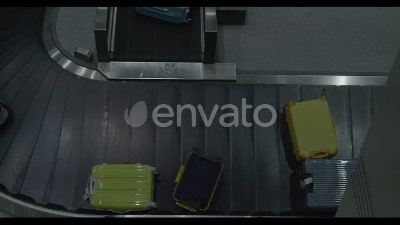baggage: (80, 164, 162, 216), (283, 94, 340, 159), (169, 152, 226, 211), (298, 156, 358, 206)
